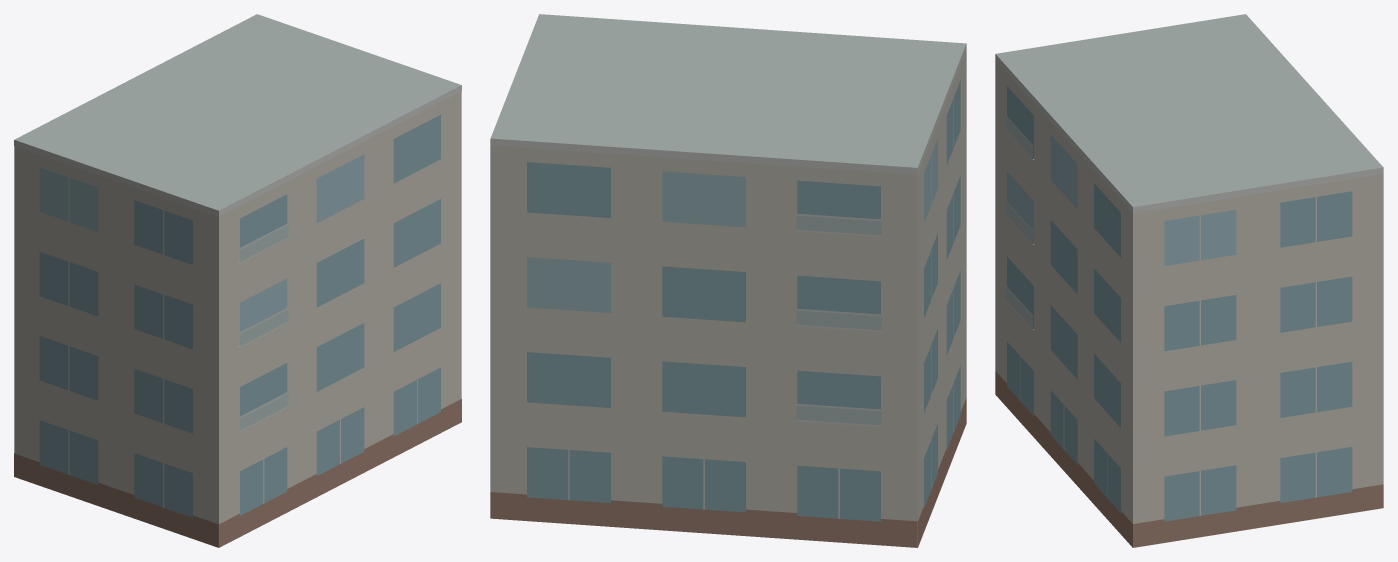
Rendered from survey-upis-32722146.glb.
3 views of the same model, side by side, from view 1: azimuth 30°, elevation 25°; view 2: azimuth 150°, elevation 25°; view 3: azimuth 270°, elevation 25° (orthographic). The views are drawn at different scales.
Visible parts, largest first — view 1: survey-upis-32722146.tmp; view 2: survey-upis-32722146.tmp; view 3: survey-upis-32722146.tmp.
Part boxes in pixels (left/top/right/bottom): survey-upis-32722146.tmp: left=14, top=14, right=461, bottom=547; survey-upis-32722146.tmp: left=490, top=14, right=966, bottom=547; survey-upis-32722146.tmp: left=995, top=14, right=1383, bottom=547.
Bounding box in the file's own units: 16.06 × 13.2 × 13.64.
